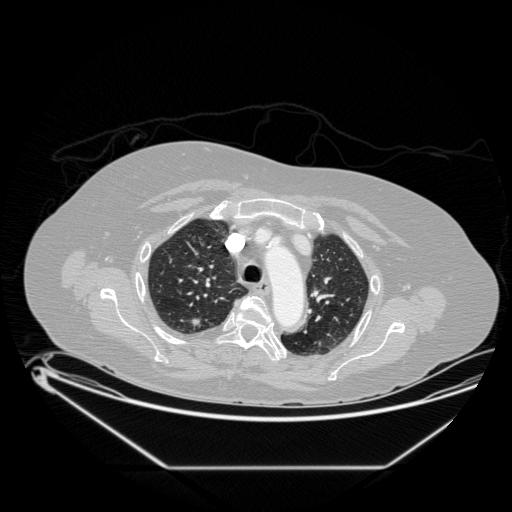nodule: (189, 315, 203, 329)
